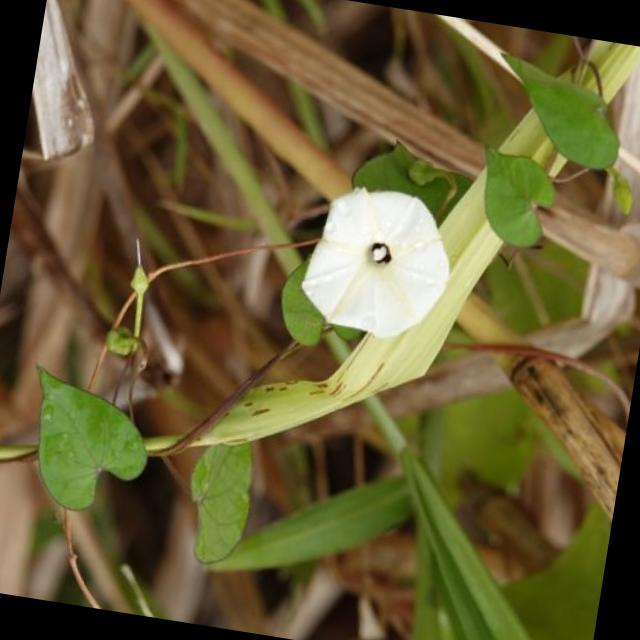ipomoea: (289, 172, 467, 350)
